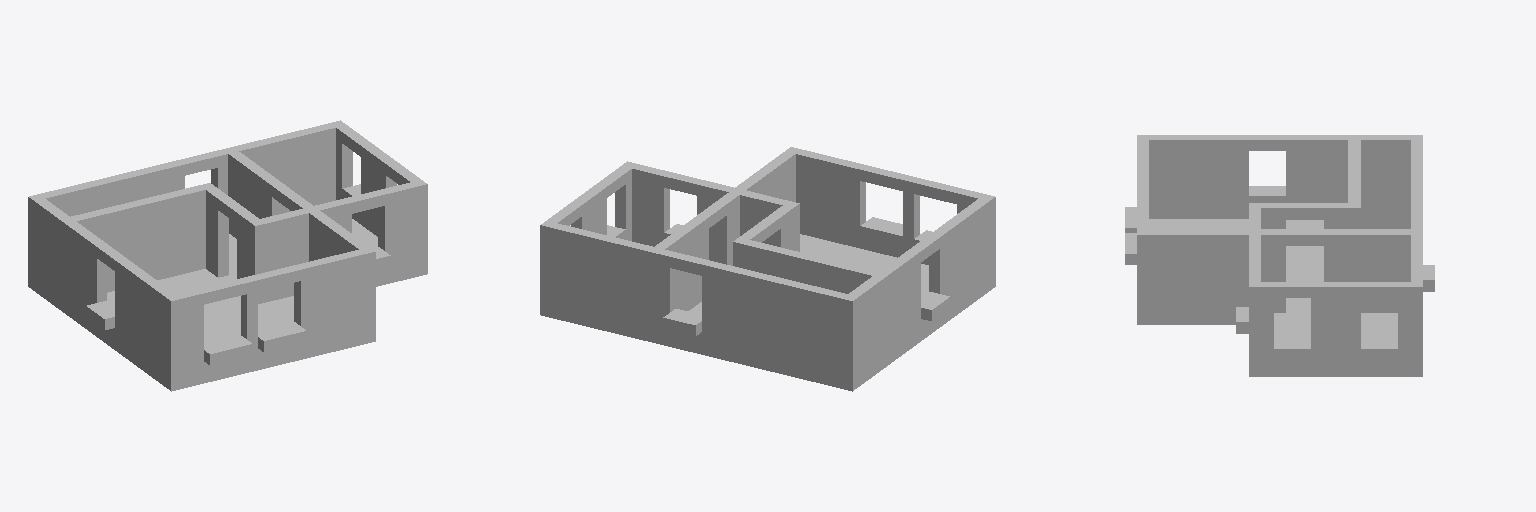
Rendered from house.vox-2-nth floor.obj.
3 renders of one model, left to right at view 1: azimuth 30°, elevation 25°; view 2: azimuth 150°, elevation 25°; view 3: azimuth 270°, elevation 25°, orthographic.
Visible parts, largest first — view 1: nth floor; view 2: nth floor; view 3: nth floor.
Boxes of the visible parts, x1,y1,x2,y2 form: nth floor: [28, 120, 427, 391]; nth floor: [540, 147, 995, 391]; nth floor: [1125, 135, 1434, 376].
Size of the model in its own units: 3.1 by 0.8 by 2.5.